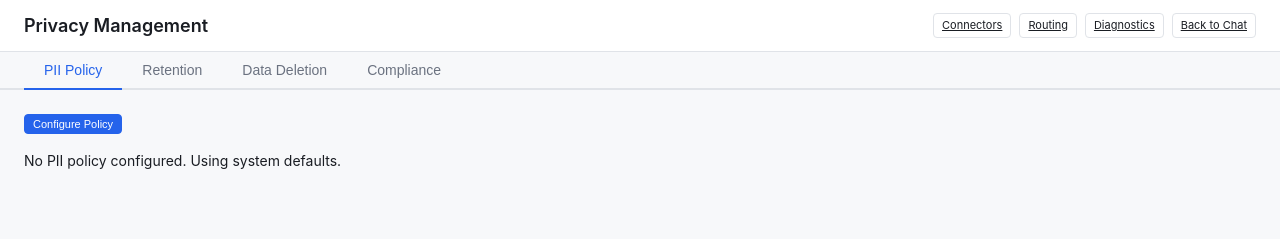
PrivacyAdminPage › switches to retention tab
Click the button "Retention": (172, 71) 122,52 -> 222,90
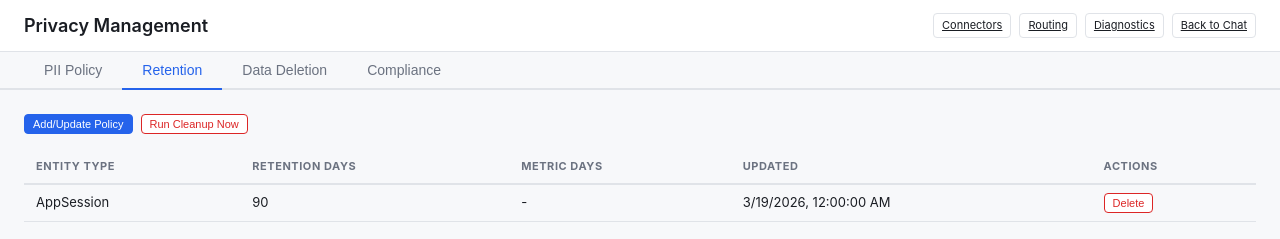
Expected: the text "AppSession" is shown, 24,184 -> 240,221
Expected: the text "90" is shown, 240,184 -> 509,221
